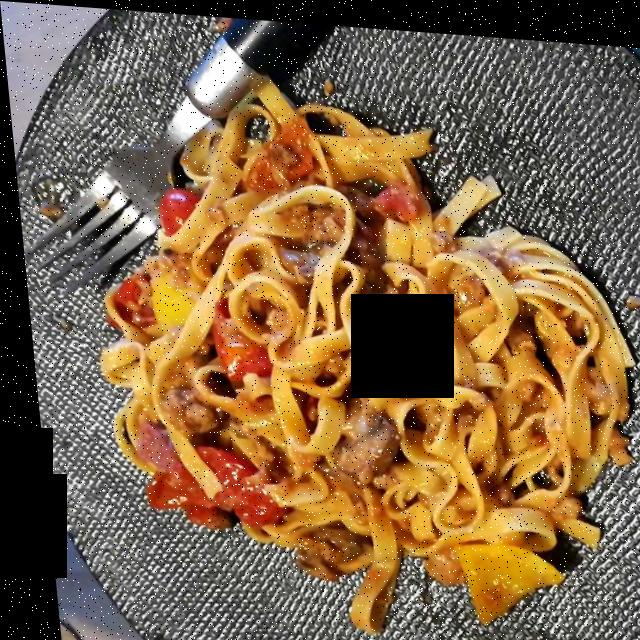pasta-linguini-parpadelle-tagliatelle: (107, 102, 623, 598)
sauce-mushroom: (131, 151, 616, 609)
